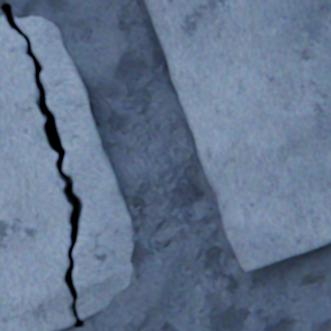brick: (144, 0, 330, 270)
broken_brick: (16, 16, 132, 318), (0, 17, 74, 330)
crack: (0, 1, 85, 329)
